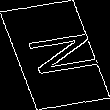N_E: (11, 30, 99, 80)
